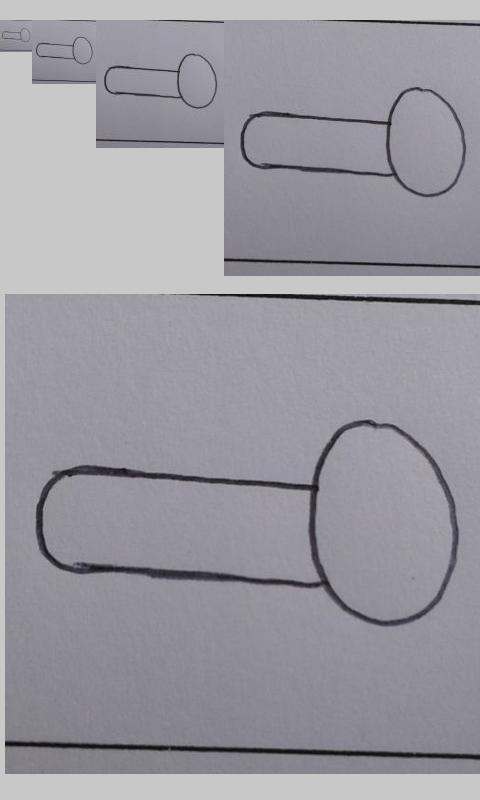switch: (33, 420, 461, 627), (239, 87, 467, 198), (103, 53, 218, 110), (35, 36, 94, 65), (1, 27, 31, 42)
